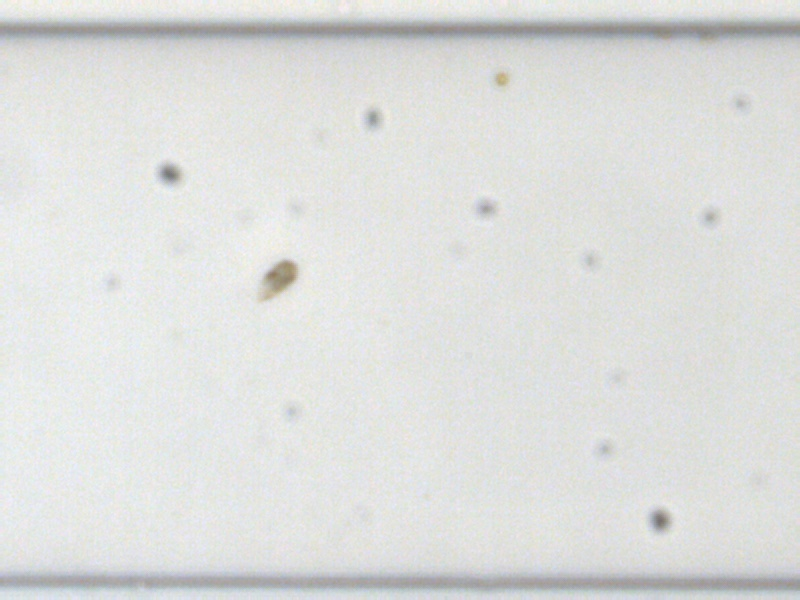Chlorella: (494, 72, 512, 86)
Dunaliella salina: (252, 258, 298, 305)
